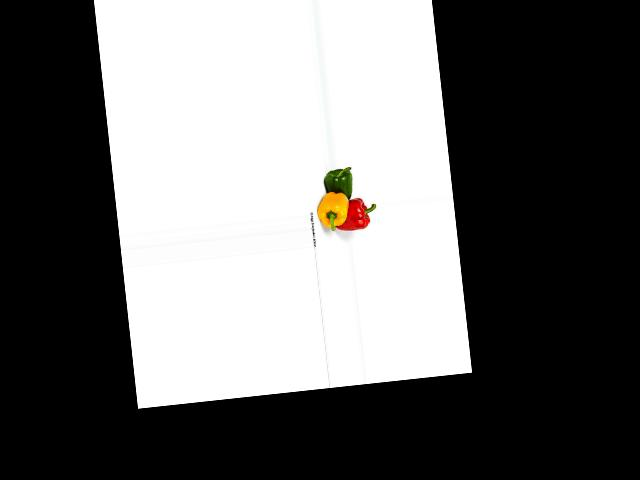bell_pepper: (335, 195, 378, 234)
